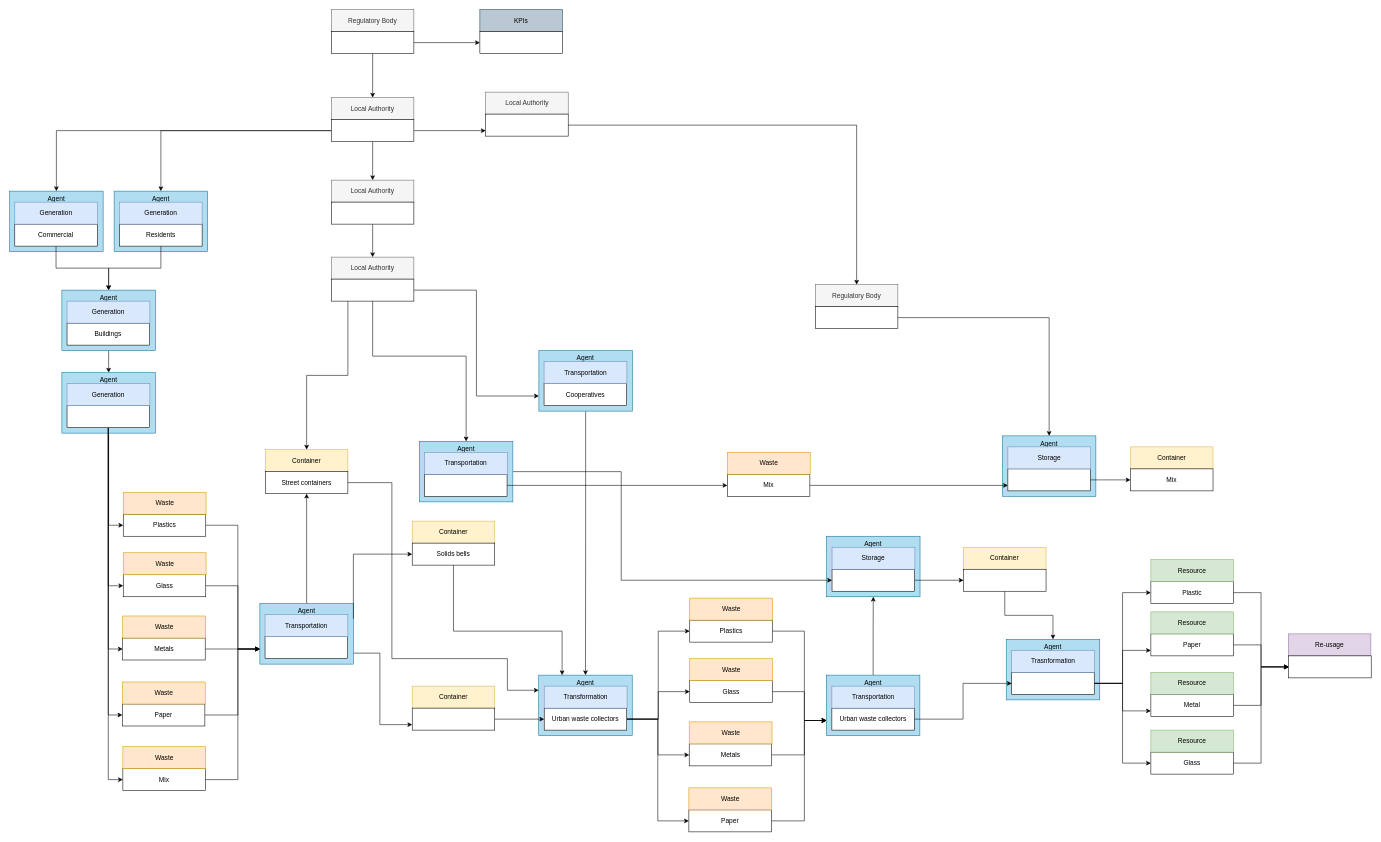
This 1381x842 diagram has some shape labels left out. Each missing label, with the centre of its shape:
"Buenos Aires city" goes at [372,130].
"CEAMSE" goes at [856,317].
"Direction of urban hygiene" goes at [372,290].
"Individuals" goes at [306,647].
"Landfill" goes at [1048,479].
"Local Legislation" goes at [372,42].
"Metropolitan Area" goes at [526,125].
"Ministry of Environment" goes at [372,213].
"Recycling facilities" goes at [1052,683].
"Recycling firms" goes at [1329,666].
"Residential container" goes at [453,719].
"SWM services" goes at [465,485].
"Transfer stations" goes at [873,580].
"Zones" goes at [108,416].
